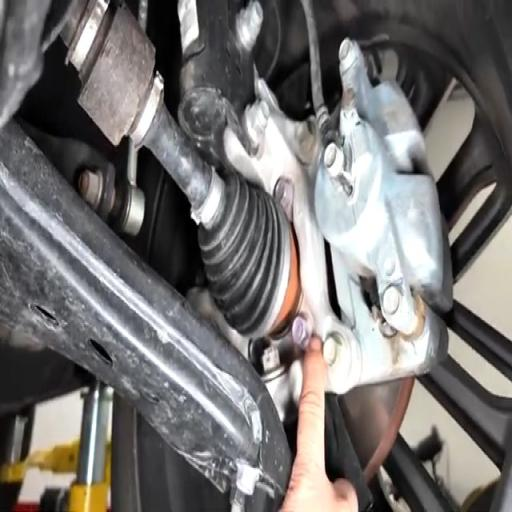tire: (316, 0, 511, 162)
